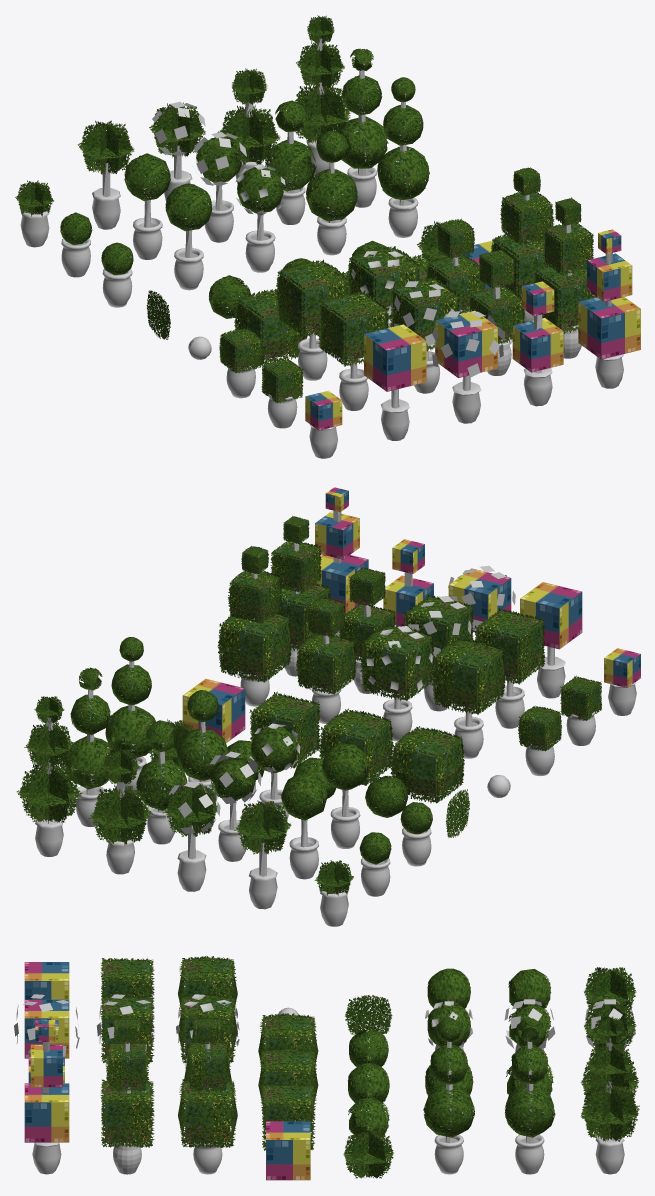
File: Plantas de Interior.fbx
The picture shows the model from 3 angles, top to bottom: view 1: azimuth 30°, elevation 25°; view 2: azimuth 150°, elevation 25°; view 3: azimuth 270°, elevation 25°; orthographic projection. The views are drawn at different scales.
Parts seen in each view (by area): view 1: Planta_de_Interior_10_L2, Planta_de_Interior_10_L1, Planta_de_Interior_5_L0, Planta_de_Interior_8_L2, Planta_de_Interior_5_L2, Planta_de_Interior_7_L0, Planta_de_Interior_7_L1, Planta_de_Interior_10_L0, Planta_de_Interior_7_L2, Planta_de_Interior_5_L1, Planta_de_Interior_9_L2, Planta_de_Interior_4_L0 (+24 smaller); view 2: Planta_de_Interior_10_L0, Planta_de_Interior_5_L2, Planta_de_Interior_7_L0, Planta_de_Interior_8_L0, Planta_de_Interior_9_L0, Planta_de_Interior_10_L1, Planta_de_Interior_4_L2, Planta_de_Interior_7_L1, Planta_de_Interior_5_L1, Planta_de_Interior_5_L0, Planta_de_Interior_7_L2, Planta_de_Interior_10_L2 (+27 smaller); view 3: Planta_de_Interior_10_L0, Planta_de_Interior_10_L1, Planta_de_Interior_5_L2, Planta_de_Interior_10_L2, Planta_de_Interior_5_L0, Planta_de_Interior_5_L1, Arbusto_Cuadrado_L2, Planta_de_Interior_8_L0, Planta_de_Interior_7_L0, Planta_de_Interior_8_L1, Arbusto_Cuadrado_L1, Arbusto_Cuadrado_L0 (+24 smaller).
Part boxes in pixels (left/top/right/bottom): Planta_de_Interior_10_L2: left=578, top=229, right=640, bottom=388; Planta_de_Interior_10_L1: left=533, top=197, right=596, bottom=358; Planta_de_Interior_5_L0: left=377, top=77, right=429, bottom=237; Planta_de_Interior_8_L2: left=432, top=310, right=504, bottom=423; Planta_de_Interior_5_L2: left=295, top=15, right=350, bottom=175; Planta_de_Interior_7_L0: left=275, top=259, right=348, bottom=380; Planta_de_Interior_7_L1: left=318, top=290, right=389, bottom=410; Planta_de_Interior_10_L0: left=491, top=167, right=554, bottom=322; Planta_de_Interior_7_L2: left=364, top=324, right=426, bottom=440; Planta_de_Interior_5_L1: left=338, top=48, right=388, bottom=207; Planta_de_Interior_9_L2: left=512, top=281, right=563, bottom=406; Planta_de_Interior_4_L0: left=306, top=130, right=357, bottom=255; Planta_de_Interior_10_L0: left=217, top=546, right=292, bottom=706; Planta_de_Interior_5_L2: left=16, top=696, right=82, bottom=856; Planta_de_Interior_7_L0: left=431, top=637, right=505, bottom=758; Planta_de_Interior_8_L0: left=360, top=623, right=434, bottom=741; Planta_de_Interior_9_L0: left=296, top=597, right=356, bottom=723; Planta_de_Interior_10_L1: left=270, top=516, right=331, bottom=676; Planta_de_Interior_4_L2: left=88, top=749, right=152, bottom=874; Planta_de_Interior_7_L1: left=474, top=607, right=545, bottom=728; Planta_de_Interior_5_L1: left=65, top=667, right=113, bottom=826; Planta_de_Interior_5_L0: left=105, top=637, right=155, bottom=796; Planta_de_Interior_7_L2: left=520, top=582, right=582, bottom=698; Planta_de_Interior_10_L2: left=312, top=487, right=368, bottom=638; Planta_de_Interior_10_L0: left=178, top=1018, right=237, bottom=1174; Planta_de_Interior_10_L1: left=100, top=1019, right=154, bottom=1174; Planta_de_Interior_5_L2: left=580, top=1016, right=639, bottom=1174; Planta_de_Interior_10_L2: left=24, top=1020, right=69, bottom=1174; Planta_de_Interior_5_L0: left=423, top=1018, right=474, bottom=1174; Planta_de_Interior_5_L1: left=505, top=1018, right=555, bottom=1174; Arbusto_Cuadrado_L2: left=266, top=1121, right=310, bottom=1180; Planta_de_Interior_8_L0: left=176, top=993, right=239, bottom=1063; Planta_de_Interior_7_L0: left=178, top=956, right=237, bottom=1024; Planta_de_Interior_8_L1: left=97, top=994, right=154, bottom=1063; Arbusto_Cuadrado_L1: left=261, top=1083, right=315, bottom=1150; Arbusto_Cuadrado_L0: left=258, top=1047, right=318, bottom=1112.
Size of the model in its own units: 323 by 154 by 545.
